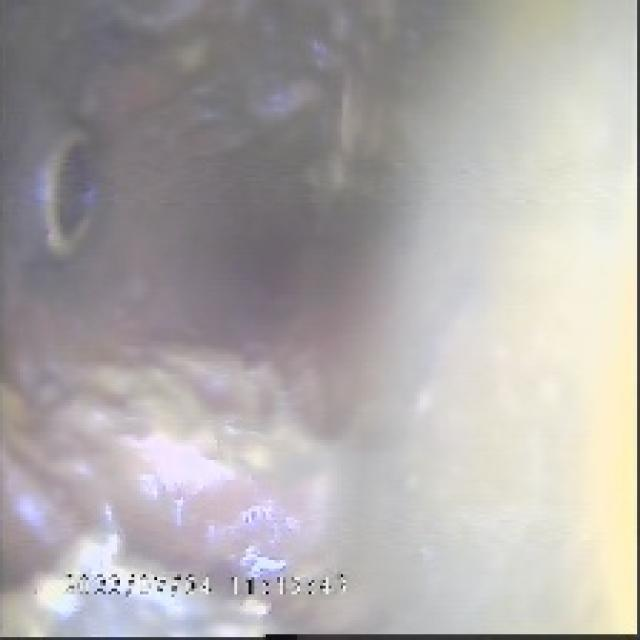encrustation: (34, 114, 100, 254)
